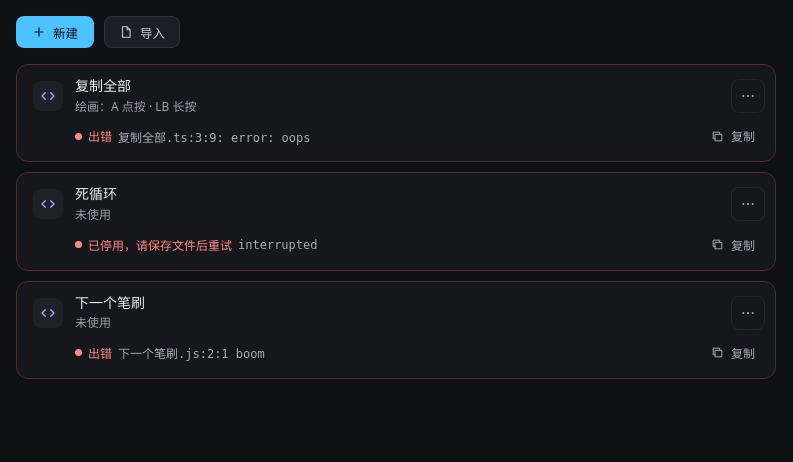
Test: scripts page: list › shows build, load and run errors on the card, with copy
Click the button "出错 复制全部.ts:3:9: error: oops".
click(214, 138)  # box [75,127,693,145]
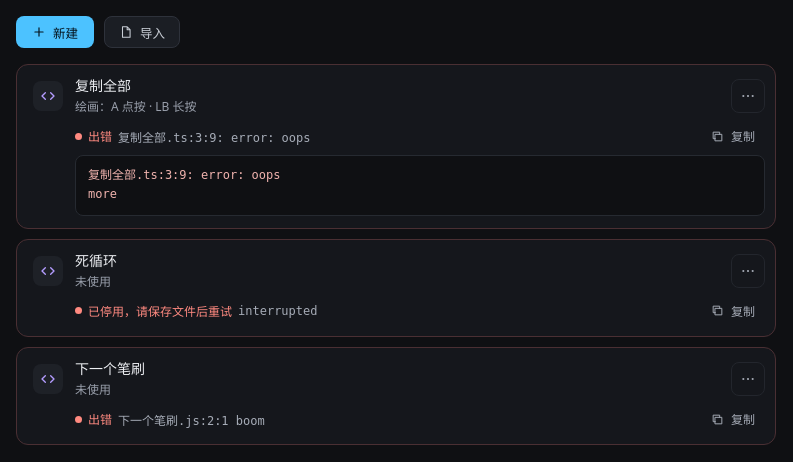
Click the 1st button "复制".
click(733, 136)  # box [701,123,765,149]
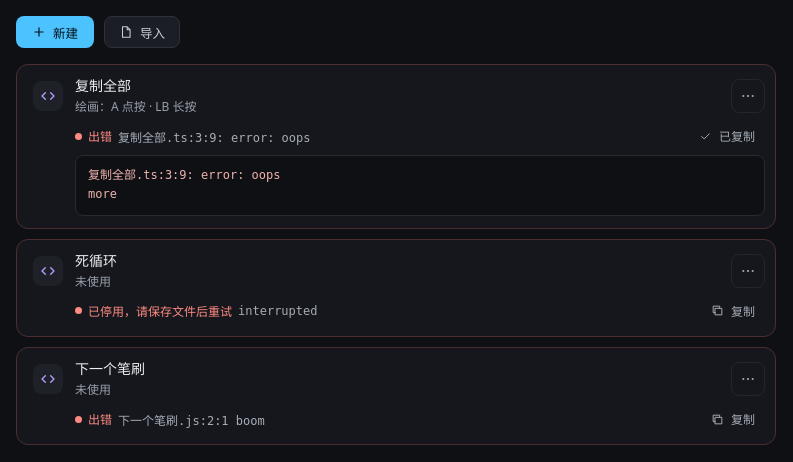
Expected: the element with test id "script-error" shows "下一个笔刷.js:2:1 boom", [75,410,693,428]
Result: the button "已复制" is shown at [689,123,765,149]
